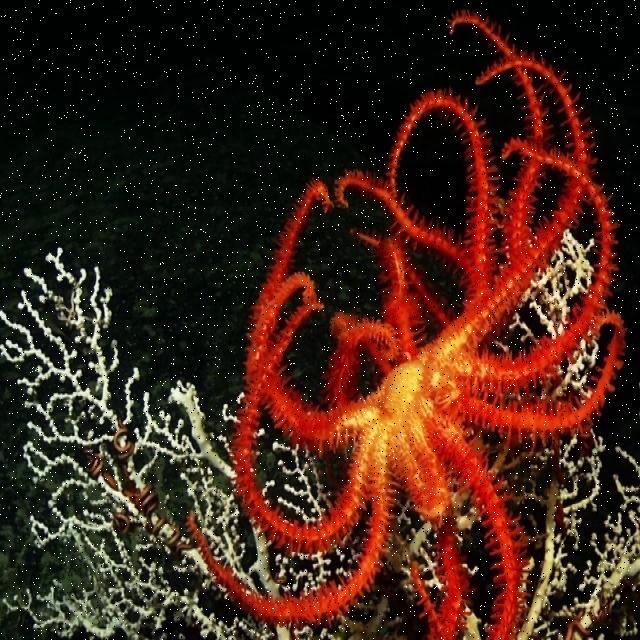reefs: (186, 11, 628, 639)
